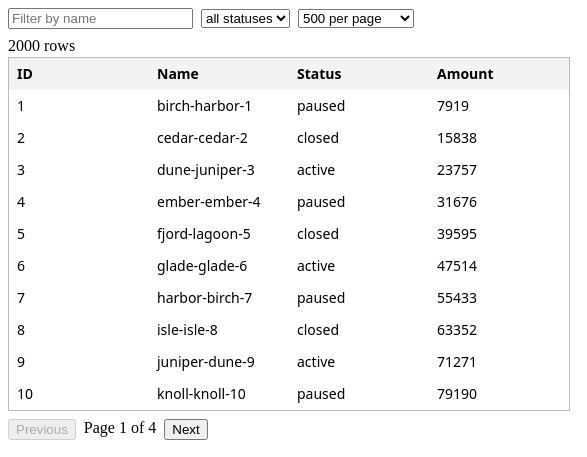
Test: table against the mock server › typing in the filter replaces the history entry instead of adding one per key
Check: the text "2000 rows" is shown, box [8, 37, 75, 54]
Type "alder" into the search field labelled "Filter by name". click: (100, 18)
box: [8, 8, 193, 29]
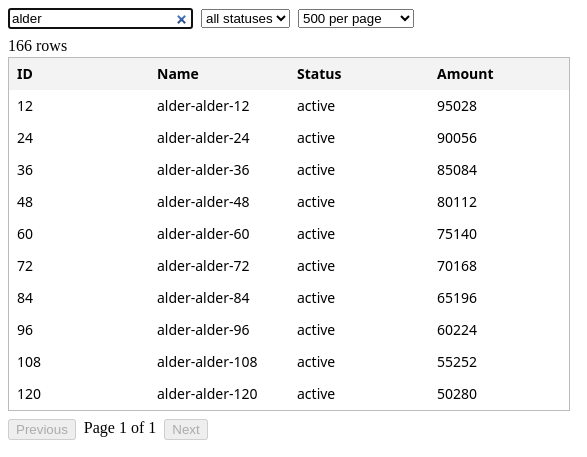
Check: the text "2000 rows" is gone
